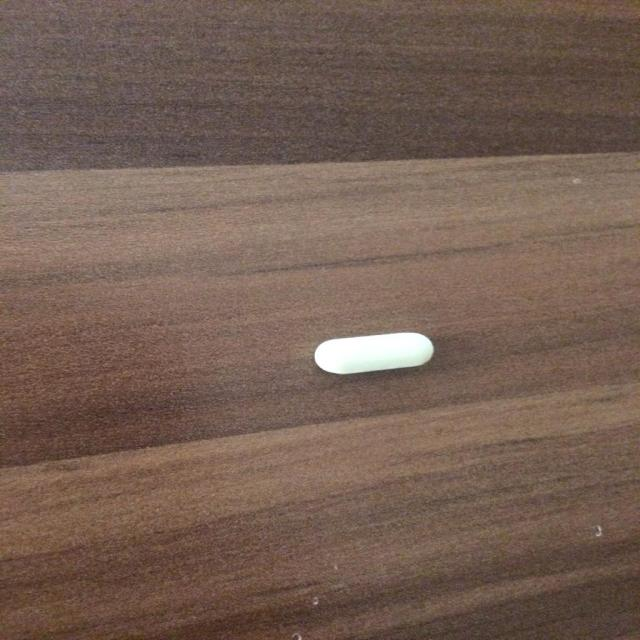pills: (294, 325, 448, 379), (322, 330, 327, 334)
